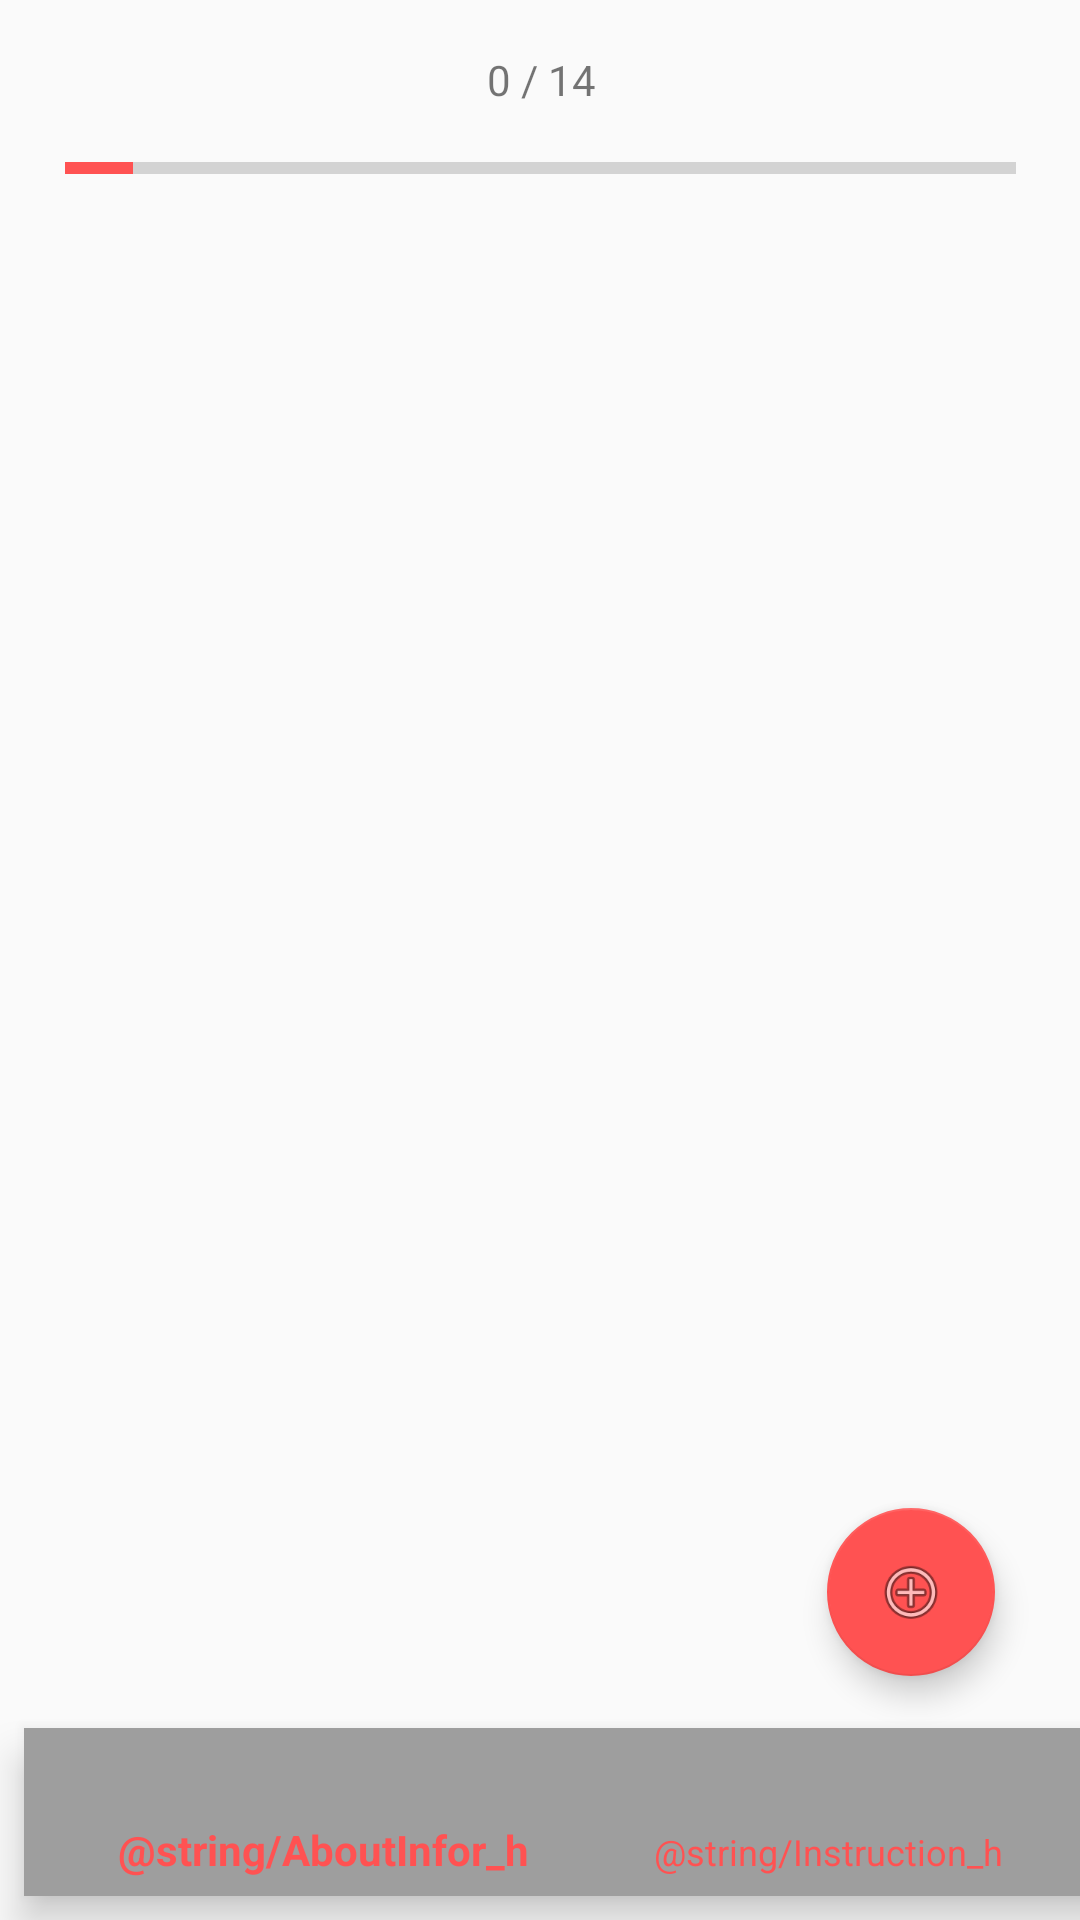

Point at icon controls on the screen. Image size 1080w x 1920h, points as (x,y).
add: (911,1592)
